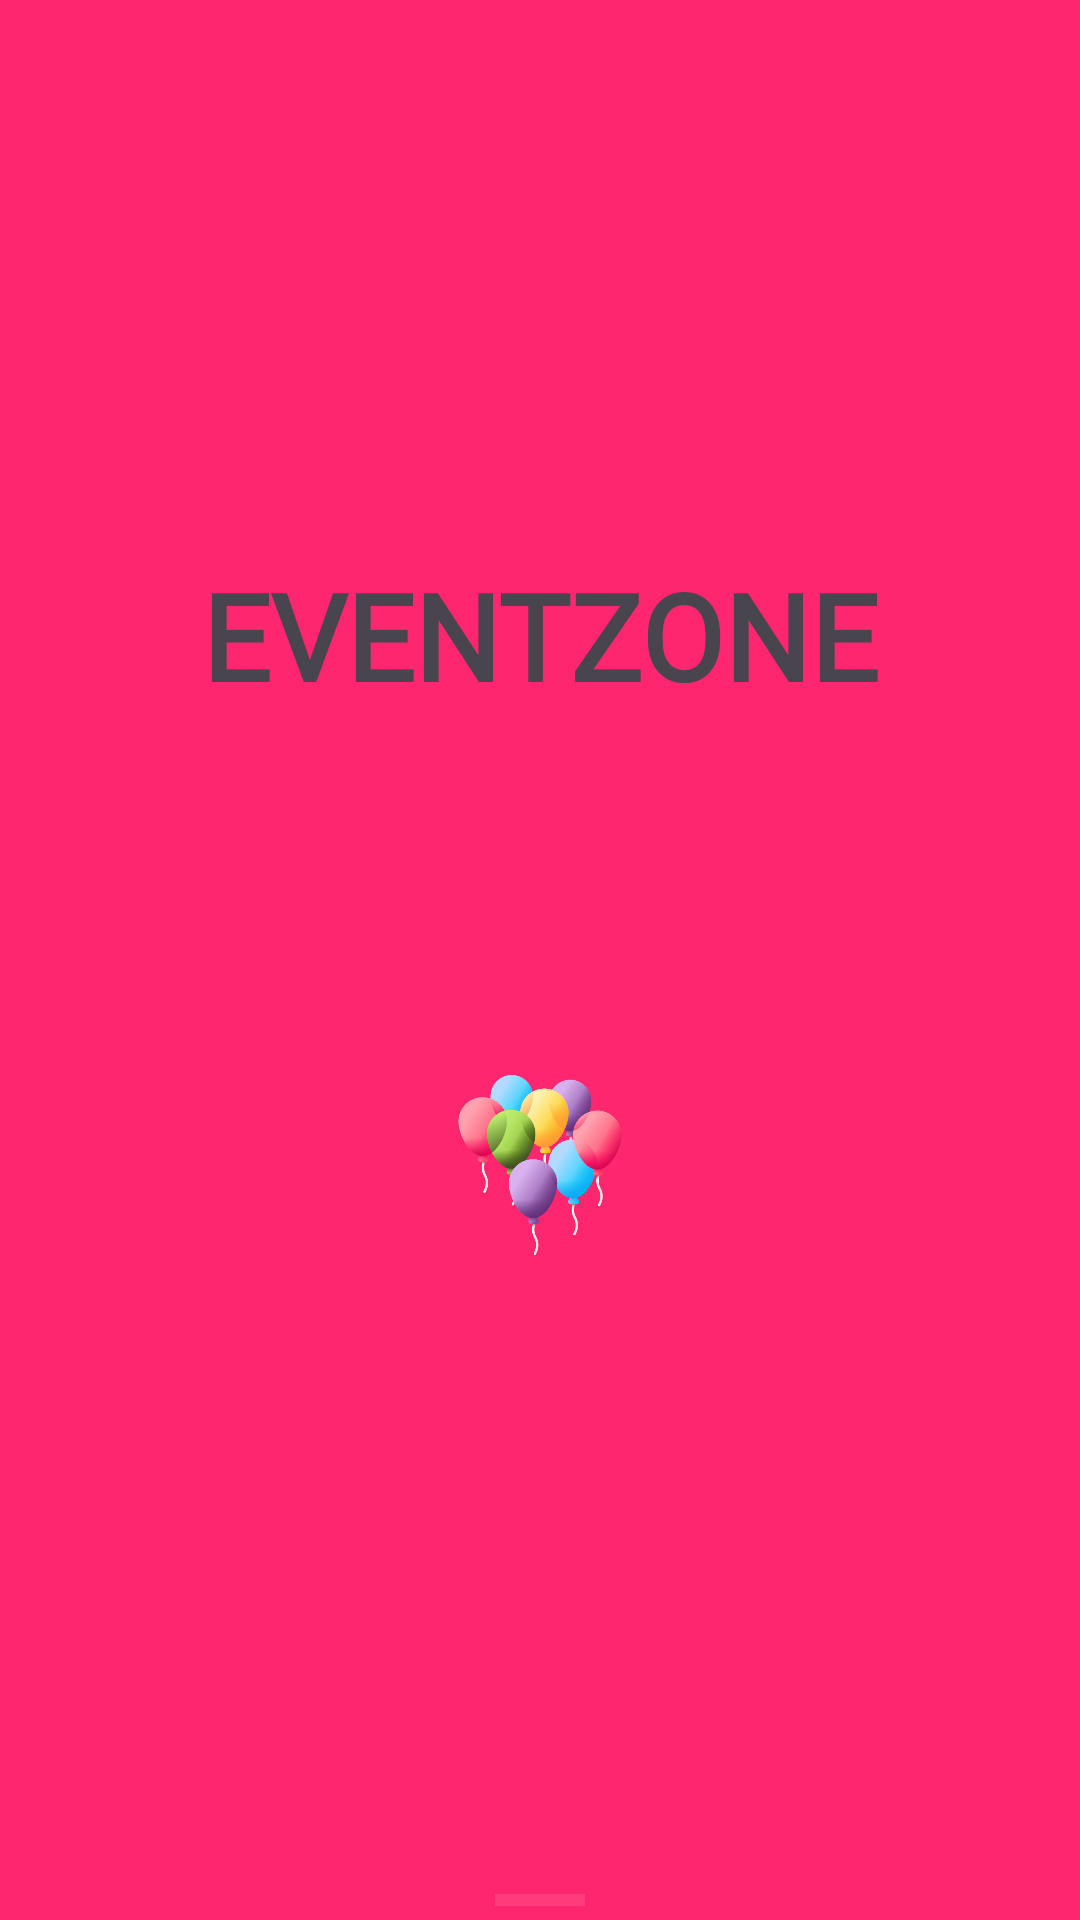

Named icons in this screenshot (1080*1920) and their bounding boxes, rect(x1, y1, x2, y2):
balloons: rect(458, 1075, 621, 1255)
